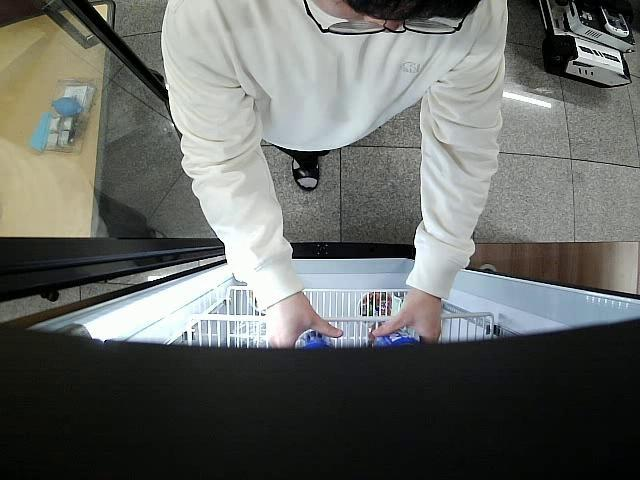13_pocariSweat: (374, 330, 420, 346), (295, 330, 335, 348)
